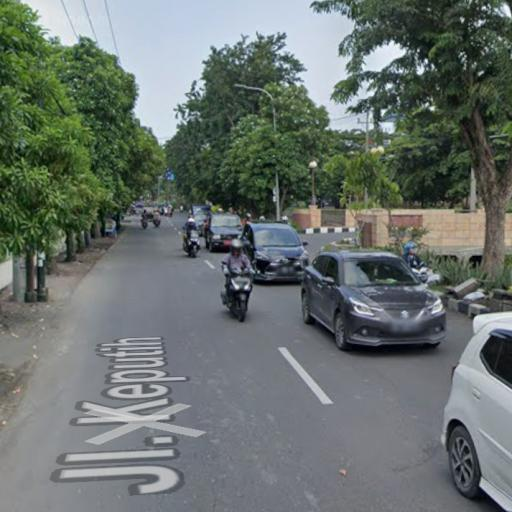Helmet: (404, 242, 417, 255), (231, 239, 242, 253), (282, 216, 288, 221), (189, 218, 194, 223), (246, 213, 251, 218), (189, 214, 193, 220), (260, 216, 265, 220)
Motor: (222, 270, 252, 322), (184, 231, 200, 258), (413, 268, 430, 283), (153, 216, 161, 228), (141, 218, 147, 229), (180, 206, 183, 213)
